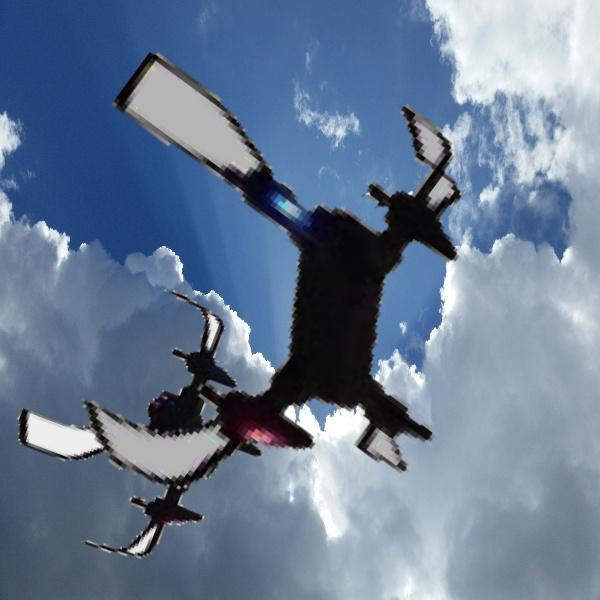drone: (33, 51, 516, 534), (4, 279, 283, 558), (345, 180, 442, 277)
